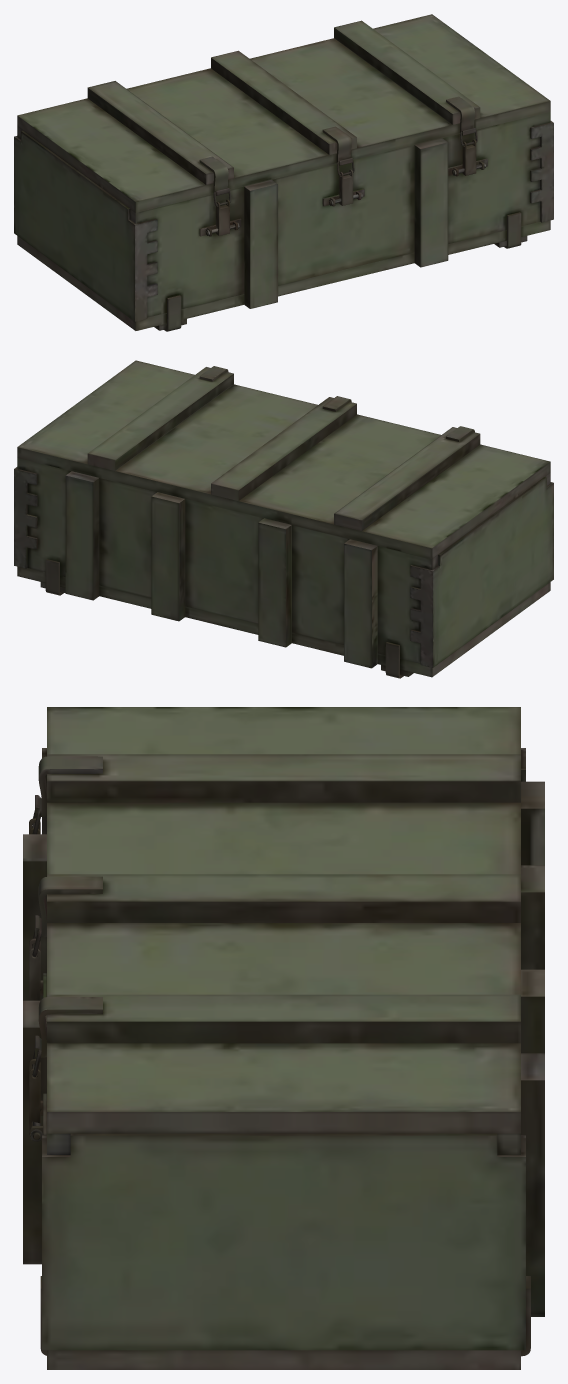
Rendered from military_box.glb.
The picture shows the model from 3 angles, top to bottom: view 1: azimuth 30°, elevation 25°; view 2: azimuth 150°, elevation 25°; view 3: azimuth 270°, elevation 25°; orthographic projection. The views are drawn at different scales.
Parts seen in each view (by area): view 1: Military Crate; view 2: Military Crate; view 3: Military Crate.
Boxes of the visible parts, left/top/right/bottom form: Military Crate: left=14, top=14, right=553, bottom=331; Military Crate: left=14, top=360, right=553, bottom=678; Military Crate: left=23, top=707, right=544, bottom=1369.
Bounding box in the file's own units: 2.86 × 0.9804 × 1.54.
1 material, 1 textured.
